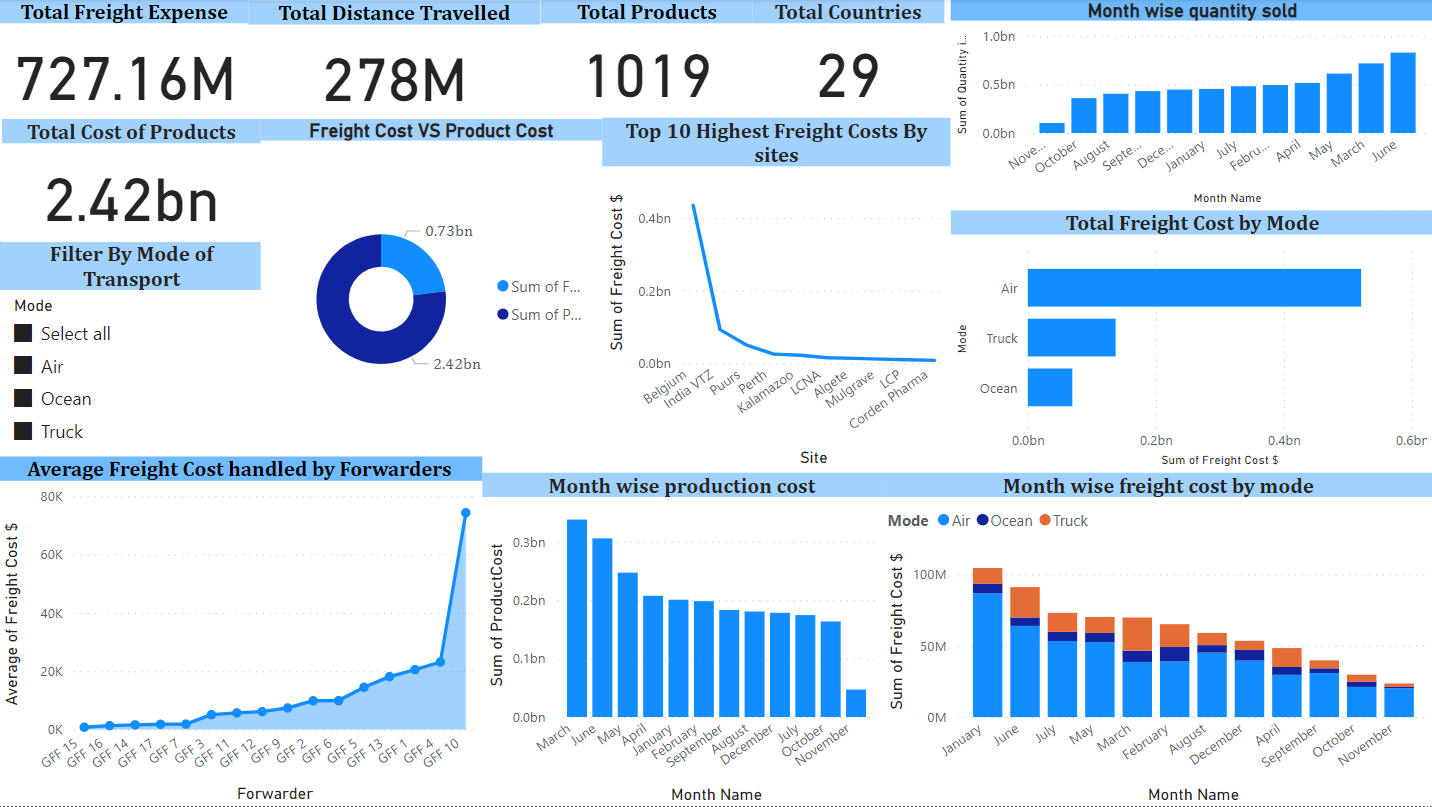

This screenshot's page, from the dashboard's own definition file:
{"tool":"powerbi","page":{"name":"Logistics Analysis","canvas":[1280,720],"ordinal":0},"visuals":[{"type":"barChart","title":"Total Freight Cost by Mode","fields":{"Y":["Sum(Data.Freight Cost $)"],"Category":["Data.Mode"]},"box":[849.5,188.5,430.5,232.7],"z":0},{"type":"columnChart","title":"Month wise freight cost by mode","fields":{"Category":["Data.Month Name"],"Y":["Sum(Data.Freight Cost $)"],"Series":["Data.Mode"]},"box":[787.8,421.2,492.2,299.1],"z":1000},{"type":"lineChart","title":"Top 10 Highest Freight Costs By sites","fields":{"Y":["Sum(Data.Freight Cost $)"],"Category":["Data.Site"]},"box":[538.8,105.9,310.7,315.3],"z":2000},{"type":"card","title":"Total Freight Expense","fields":{"Values":["Sum(Data.Freight Cost $)"]},"box":[2.3,0,222.3,105.9],"z":3000},{"type":"card","title":"Total Countries","fields":{"Values":["Count(Data.Origin Country)"]},"box":[672.6,0,171.1,100.1],"z":4000},{"type":"card","title":"Total Distance Travelled","fields":{"Values":["Sum(Data.Distance)"]},"box":[224,1,260,106],"z":5000},{"type":"slicer","title":"Filter By Mode of Transport","fields":{"Values":["Data.Mode"]},"box":[2.3,216.4,235.1,190.8],"z":6000},{"type":"card","title":"Total Products","fields":{"Values":["Count(Data.Product Number)"]},"box":[484,0,189,102],"z":7000},{"type":"donutChart","title":"Freight Cost VS Product Cost","fields":{"Y":["Sum(Data.Freight Cost $)","Sum(Data.ProductCost)"]},"box":[234.8,106.8,303.8,291.6],"z":8000},{"type":"card","title":"Total Cost of Products","fields":{"Values":["Sum(Data.ProductCost)"]},"box":[4.7,107.1,230.4,109.4],"z":9000},{"type":"columnChart","title":"Month wise production cost","fields":{"Category":["Data.Month Name"],"Y":["Sum(Data.ProductCost)"]},"box":[431.8,407.3,356.1,312.7],"z":10000},{"type":"areaChart","title":"Average Freight Cost handled by Forwarders","fields":{"Category":["Data.Forwarder"],"Y":["Avg(Data.Freight Cost $)"]},"box":[0,407.3,431.7,313],"z":11000},{"type":"columnChart","title":"Month wise quantity sold","fields":{"Category":["Data.Month Name"],"Y":["Sum(Data.Quantity in Sales (EA))"]},"box":[843.5,1.1,436.2,187],"z":12000}]}

Visuals, with their boxes in screenshot pixels (x1, y1, x2, y2), scaled from the page's 1280x720 canvas onto the 1432x807 screenshot:
"Total Freight Cost by Mode" barChart: crop(950, 211, 1431, 472)
"Month wise freight cost by mode" columnChart: crop(881, 472, 1431, 806)
"Top 10 Highest Freight Costs By sites" lineChart: crop(603, 119, 950, 472)
"Total Freight Expense" card: crop(3, 0, 251, 119)
"Total Countries" card: crop(752, 0, 944, 112)
"Total Distance Travelled" card: crop(251, 1, 541, 120)
"Filter By Mode of Transport" slicer: crop(3, 243, 266, 456)
"Total Products" card: crop(541, 0, 753, 114)
"Freight Cost VS Product Cost" donutChart: crop(263, 120, 603, 447)
"Total Cost of Products" card: crop(5, 120, 263, 243)
"Month wise production cost" columnChart: crop(483, 457, 881, 806)
"Average Freight Cost handled by Forwarders" areaChart: crop(0, 457, 483, 806)
"Month wise quantity sold" columnChart: crop(944, 1, 1431, 211)
